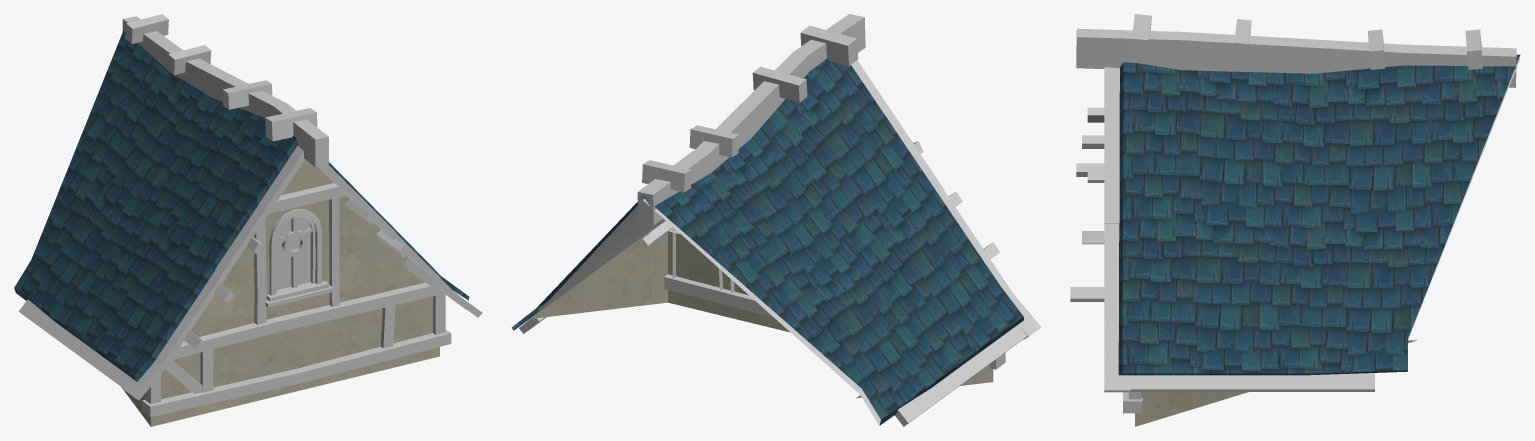
The model's file is A_Addon_Roof_A.fbx.
The picture shows the model from 3 angles, left to right: view 1: azimuth 30°, elevation 25°; view 2: azimuth 150°, elevation 25°; view 3: azimuth 270°, elevation 25°; orthographic projection. The views are drawn at different scales.
Visible parts, largest first — view 1: A_Addon_Roof_A_Tiles, A_Addon_Roof_A_KitPart, A_Addon_Roof_A; view 2: A_Addon_Roof_A_Tiles, A_Addon_Roof_A_KitPart, A_Addon_Roof_A; view 3: A_Addon_Roof_A_Tiles, A_Addon_Roof_A_KitPart, A_Addon_Roof_A.
Boxes of the visible parts, x1=… form: A_Addon_Roof_A_Tiles: x1=14, y1=30, x2=469, y2=381; A_Addon_Roof_A_KitPart: x1=18, y1=14, x2=482, y2=417; A_Addon_Roof_A: x1=121, y1=159, x2=439, y2=426; A_Addon_Roof_A_Tiles: x1=511, y1=58, x2=1023, y2=425; A_Addon_Roof_A_KitPart: x1=518, y1=14, x2=1041, y2=426; A_Addon_Roof_A: x1=530, y1=220, x2=993, y2=398; A_Addon_Roof_A_Tiles: x1=1118, y1=54, x2=1520, y2=375; A_Addon_Roof_A_KitPart: x1=1070, y1=14, x2=1520, y2=413; A_Addon_Roof_A: x1=1135, y1=340, x2=1416, y2=426.
Size of the model in its own units: 560 by 423 by 542.
